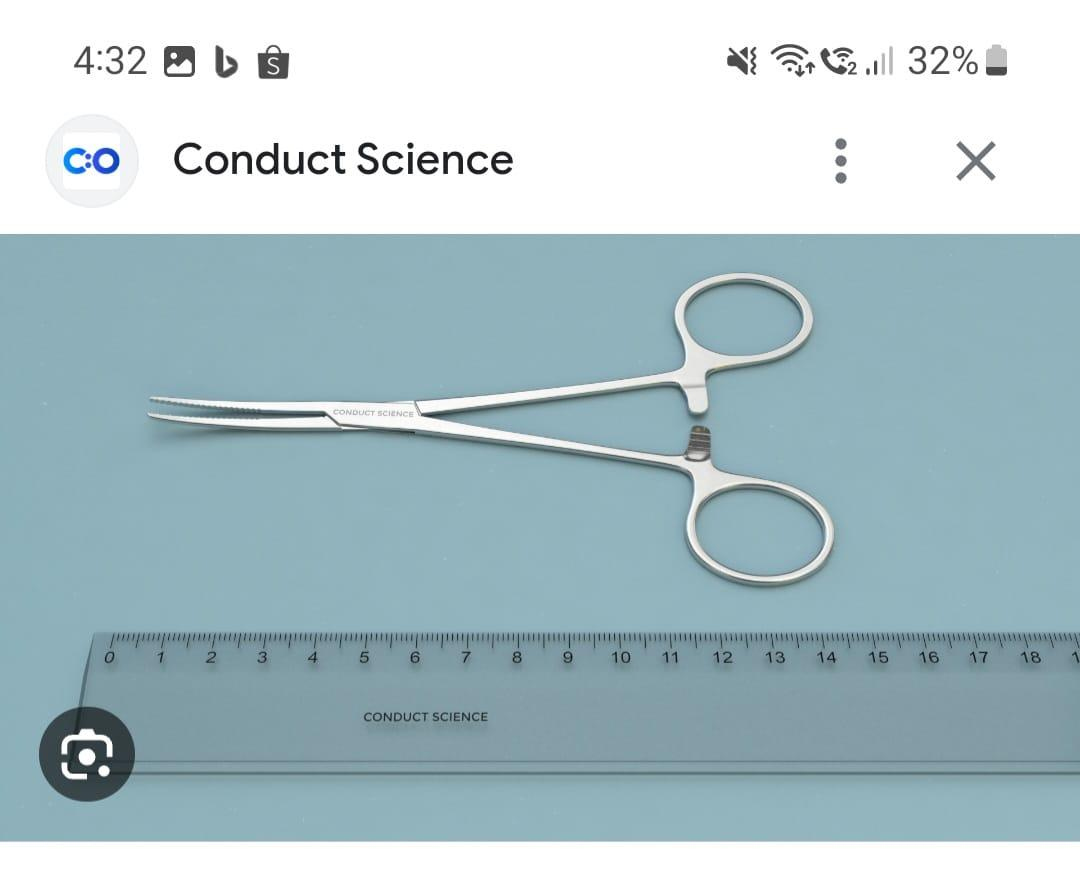Artery Forceps: (140, 266, 841, 607)
